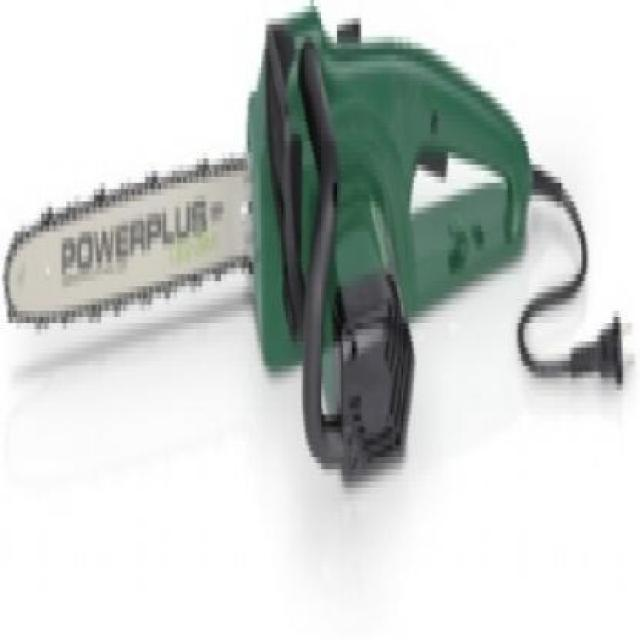Chainsaw: (0, 0, 640, 485)
